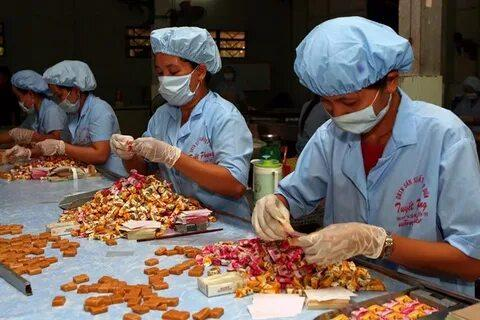hairnet: (280, 8, 429, 107), (135, 11, 235, 83), (34, 47, 102, 94), (9, 45, 48, 89)
mask: (150, 73, 208, 121), (322, 108, 396, 141), (53, 85, 88, 120)
